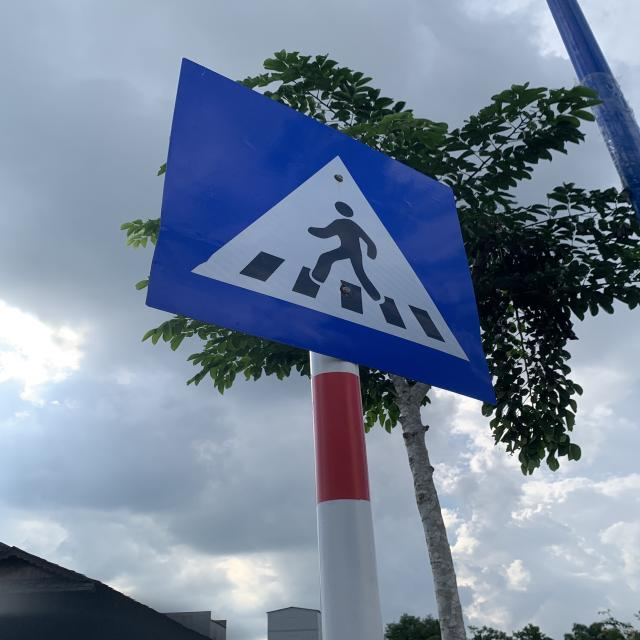Giao_Nhau_Duong_Uu_Tien: (149, 57, 497, 405)
